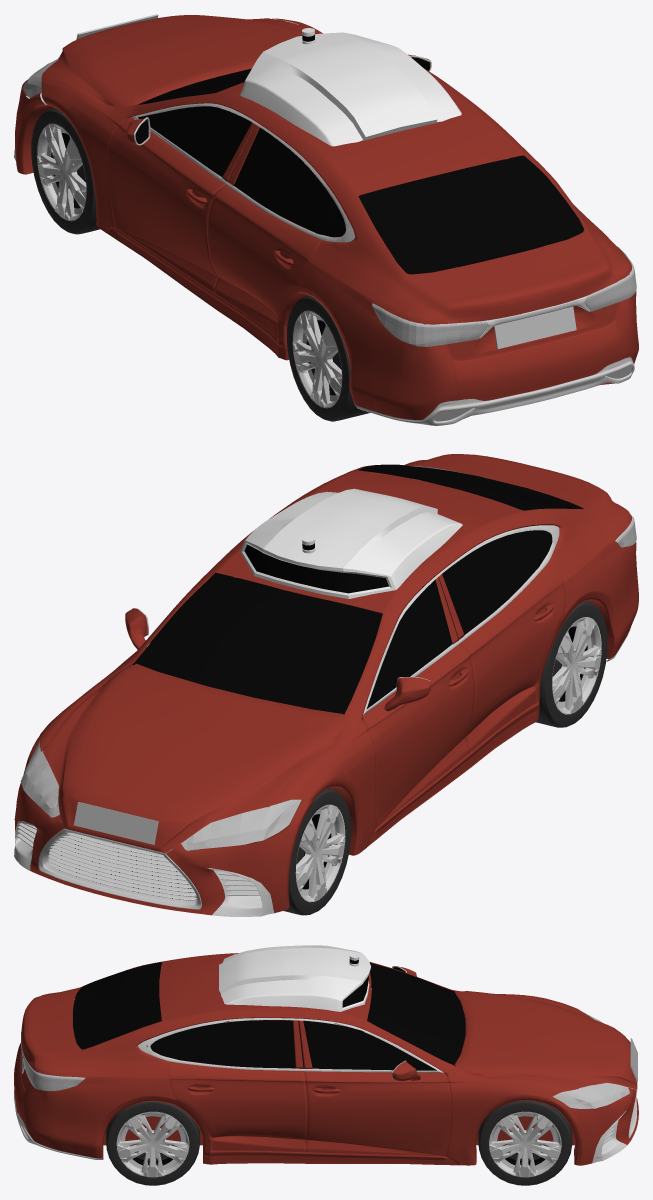
Rendered from maincar_lexus.glb.
3 renders of one model, top to bottom at view 1: azimuth 30°, elevation 25°; view 2: azimuth 150°, elevation 25°; view 3: azimuth 270°, elevation 25°, orthographic. The views are drawn at different scales.
Visible parts, largest first — view 1: lexus., lexus_back_left, lexus_front_left, License Plate, Light_Lamp Housings_Back_Left, Light_01_Back_Left, Light_Lamp Housings_Back_Right; view 2: lexus., lexus_back_left, lexus_front_left, Light_Lamp Housings_Front_Left, License Plate, Light_Lamp Housings_Front_Right; view 3: lexus., lexus_front_right, lexus_back_right, Light_Lamp Housings_Front_Right, Light_Lamp Housings_Back_Right.
Boxes of the visible parts, bbox=[...] form: lexus.: bbox=[14, 15, 638, 425]; lexus_back_left: bbox=[286, 295, 370, 421]; lexus_front_left: bbox=[31, 107, 99, 234]; License Plate: bbox=[76, 14, 576, 349]; Light_Lamp Housings_Back_Left: bbox=[372, 303, 487, 346]; Light_01_Back_Left: bbox=[387, 315, 487, 343]; Light_Lamp Housings_Back_Right: bbox=[585, 246, 636, 311]; lexus.: bbox=[14, 454, 638, 916]; lexus_back_left: bbox=[536, 601, 607, 727]; lexus_front_left: bbox=[283, 788, 351, 915]; Light_Lamp Housings_Front_Left: bbox=[181, 799, 301, 850]; License Plate: bbox=[74, 510, 522, 844]; Light_Lamp Housings_Front_Right: bbox=[20, 741, 59, 817]; lexus.: bbox=[14, 945, 638, 1165]; lexus_front_right: bbox=[478, 1100, 572, 1185]; lexus_back_right: bbox=[106, 1101, 199, 1185]; Light_Lamp Housings_Front_Right: bbox=[553, 1082, 629, 1108]; Light_Lamp Housings_Back_Right: bbox=[23, 1056, 84, 1090].
Size of the model in its own units: 2.02 by 1.63 by 4.96.
